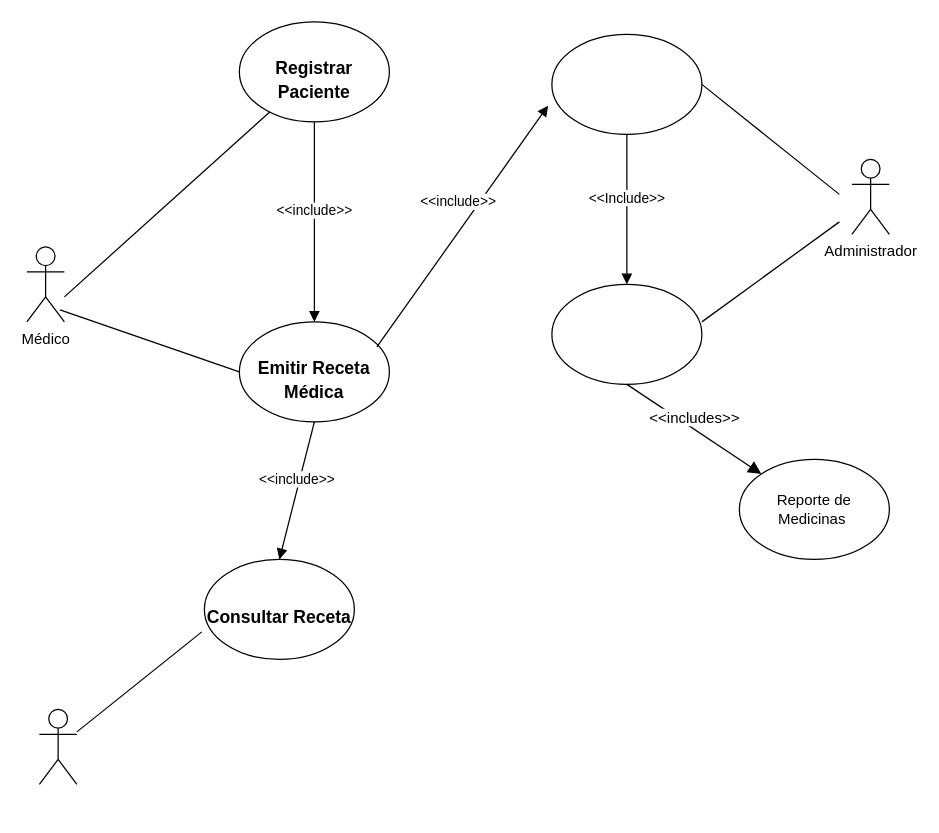
The diagram is 939 pixels wide and 833 high, and some of its shapes have lost their labels. Each missing label, with the centre of its shape:
Actualizar Inventario de Medicinas: the point at 626,333
Entregar Medicinas: the point at 626,83
Paciente: the point at 57,746
